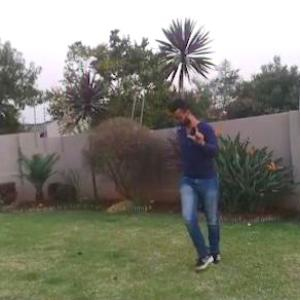land_hand: (186, 118, 209, 146)
